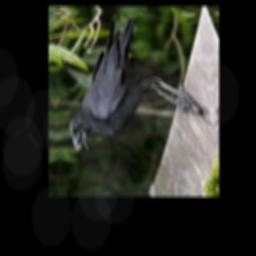Crow: (61, 13, 197, 152)
